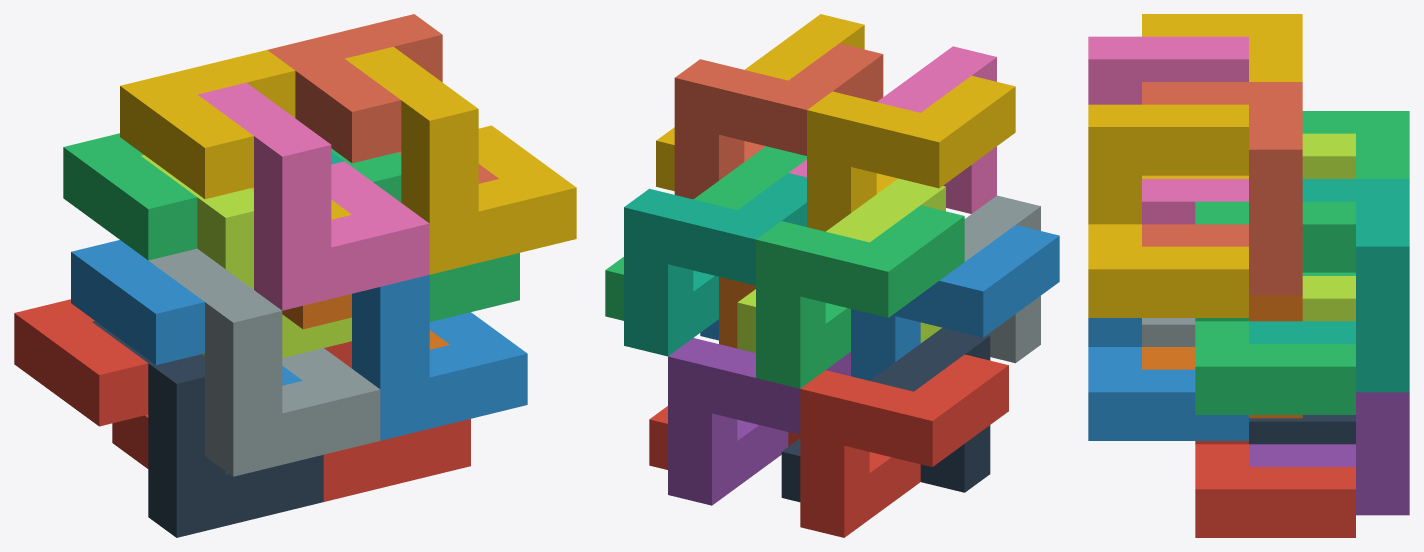
The model's file is tiling.obj.
3 renders of one model, left to right at view 1: azimuth 30°, elevation 25°; view 2: azimuth 150°, elevation 25°; view 3: azimuth 270°, elevation 25°, orthographic. The views are drawn at different scales.
Parts seen in each view (by area): view 1: copy_2_domain_4, copy_2_domain_2, copy_2_domain_8, copy_2_domain_6, copy_2_domain_1, copy_1_domain_4, copy_1_domain_8, copy_1_domain_1, copy_1_domain_2, copy_1_domain_3, copy_2_domain_5, copy_2_domain_3 (+2 smaller); view 2: copy_1_domain_1, copy_1_domain_3, copy_1_domain_7, copy_1_domain_4, copy_1_domain_8, copy_1_domain_5, copy_1_domain_2, copy_2_domain_1, copy_2_domain_4, copy_2_domain_2, copy_2_domain_3, copy_2_domain_8 (+3 smaller); view 3: copy_2_domain_8, copy_2_domain_7, copy_1_domain_8, copy_1_domain_7, copy_2_domain_5, copy_2_domain_4, copy_2_domain_6, copy_1_domain_5, copy_1_domain_4, copy_1_domain_3, copy_2_domain_3, copy_2_domain_1 (+2 smaller).
Boxes of the visible parts, x1,y1,x2,y2 form: copy_2_domain_4: (197,82,429,310); copy_2_domain_2: (148,248,380,476); copy_2_domain_8: (345,46,576,274); copy_2_domain_6: (352,275,527,440); copy_2_domain_1: (92,321,323,537); copy_1_domain_4: (120,50,351,219); copy_1_domain_8: (267,14,498,183); copy_1_domain_1: (14,299,148,468); copy_1_domain_2: (71,240,302,385); copy_1_domain_3: (63,133,197,260); copy_2_domain_5: (323,341,470,501); copy_2_domain_3: (141,155,351,357); copy_1_domain_1: (800,354,1008,537); copy_1_domain_3: (756,205,964,388); copy_1_domain_7: (624,173,806,356); copy_1_domain_4: (807,75,1015,231); copy_1_domain_8: (674,43,883,199); copy_1_domain_5: (668,338,850,505); copy_1_domain_2: (851,225,1059,380); copy_2_domain_1: (781,327,990,502); copy_2_domain_4: (789,46,996,213); copy_2_domain_2: (964,195,1040,363); copy_2_domain_3: (737,178,945,352); copy_2_domain_8: (656,14,864,191); copy_2_domain_8: (1088,104,1248,317); copy_2_domain_7: (1195,201,1355,414); copy_1_domain_8: (1142,82,1302,295); copy_1_domain_7: (1249,179,1409,392); copy_2_domain_5: (1195,441,1355,537); copy_2_domain_4: (1088,36,1248,224); copy_2_domain_6: (1088,318,1248,440); copy_1_domain_5: (1249,392,1409,515); copy_1_domain_4: (1142,14,1302,178); copy_1_domain_3: (1302,111,1409,275); copy_2_domain_3: (1302,133,1355,321); copy_2_domain_1: (1249,415,1355,444).
Size of the model in its own units: 8 by 8 by 6.
